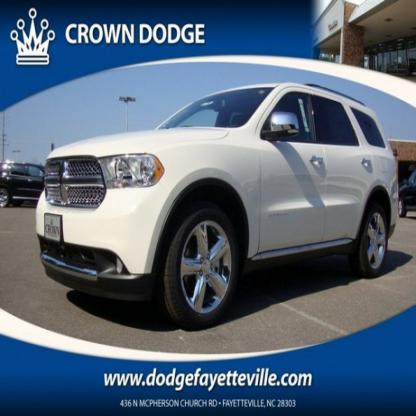Vehicle: (36, 81, 400, 332)
